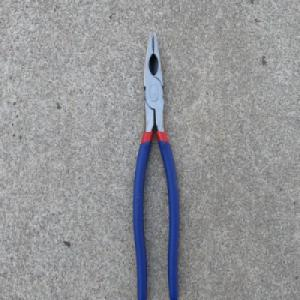Pliers: (131, 29, 181, 300)
